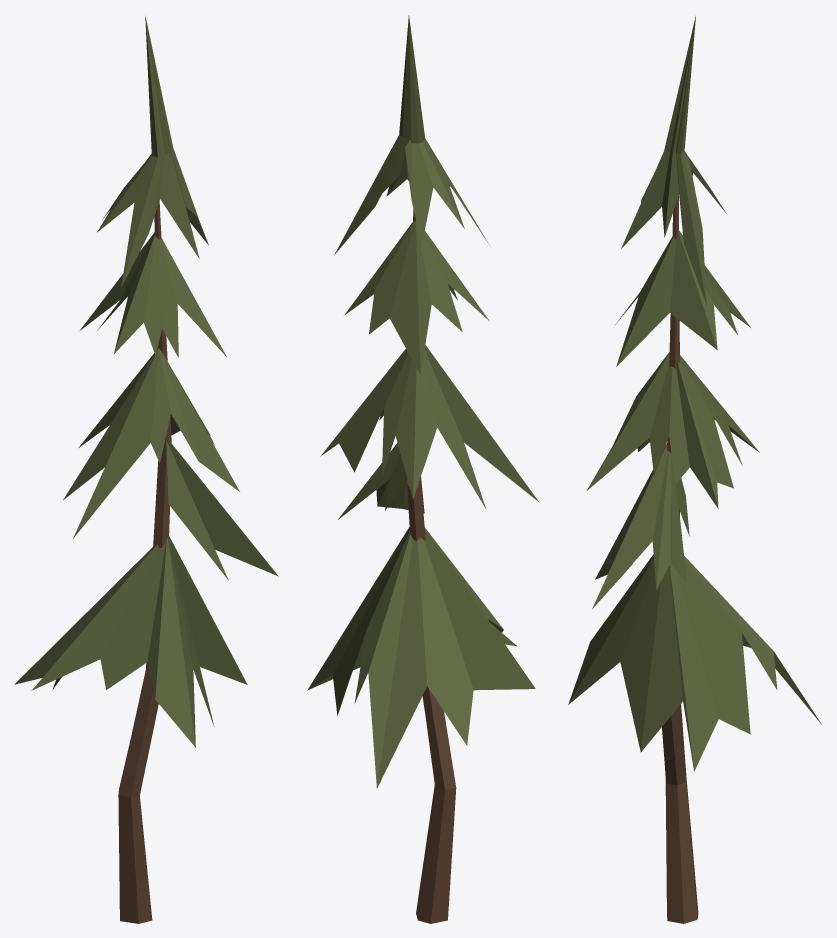
Rendered from FirTree_002.fbx.
3 renders of one model, left to right at view 1: azimuth 30°, elevation 25°; view 2: azimuth 150°, elevation 25°; view 3: azimuth 270°, elevation 25°, orthographic.
Visible parts, largest first — view 1: Cube.002; view 2: Cube.002; view 3: Cube.002.
Boxes of the visible parts, bbox=[...] form: Cube.002: bbox=[14, 16, 278, 923]; Cube.002: bbox=[307, 15, 538, 923]; Cube.002: bbox=[568, 16, 821, 923].
Size of the model in its own units: 297 by 1147 by 291.
